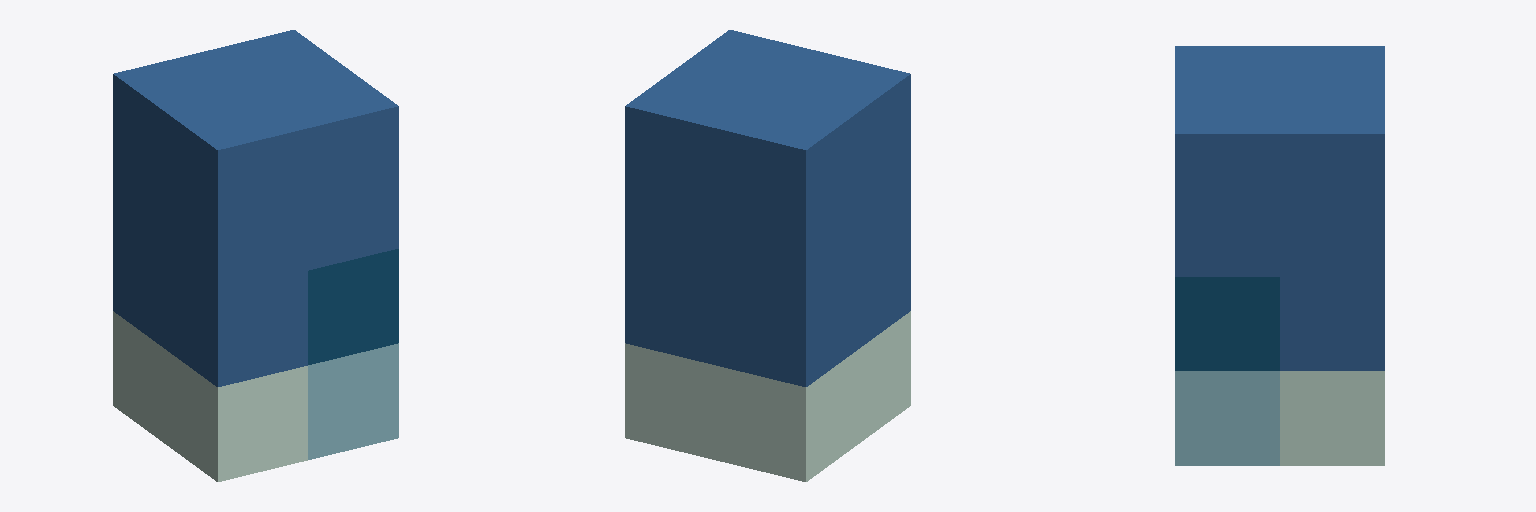
3 renders of one model, left to right at view 1: azimuth 30°, elevation 25°; view 2: azimuth 150°, elevation 25°; view 3: azimuth 270°, elevation 25°, orthographic.
Visible parts, largest first — view 1: object 1; view 2: object 1; view 3: object 1.
Boxes of the visible parts, x1=… form: object 1: x1=113, y1=30, x2=398, y2=481; object 1: x1=625, y1=30, x2=910, y2=481; object 1: x1=1175, y1=46, x2=1384, y2=465.
Size of the model in its own units: 0.4 by 0.7 by 0.4.
1 materials, 1 textured.